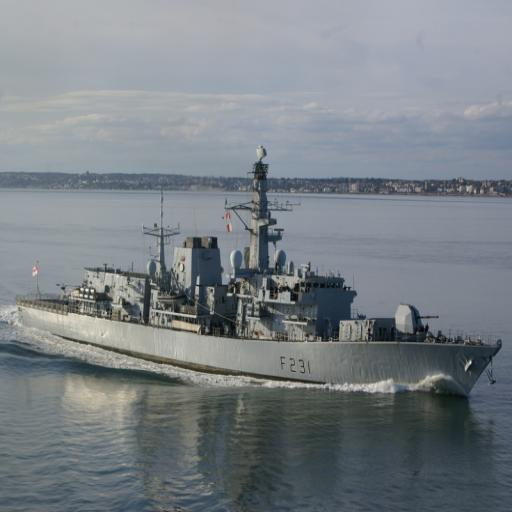Fragata: (7, 139, 507, 406)
